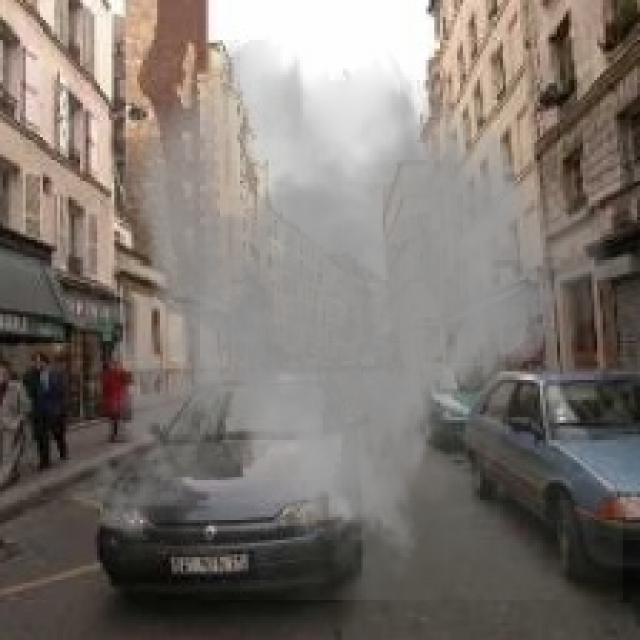smoke: (74, 34, 623, 600)
